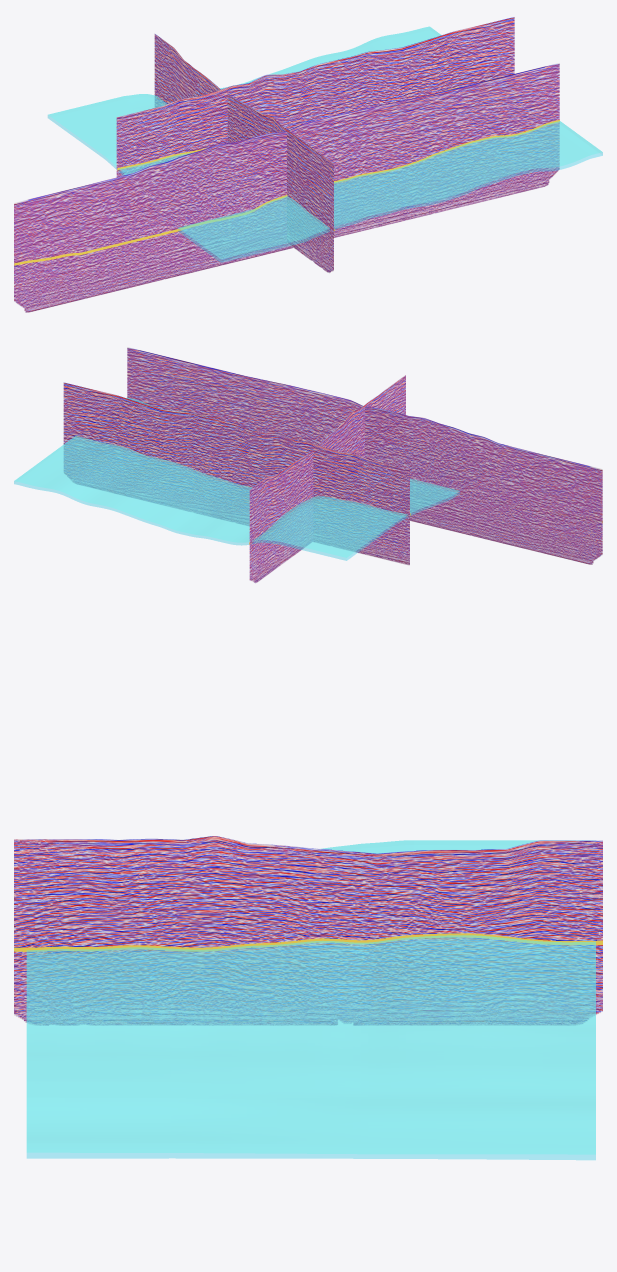
Rendered from jida_aquifer_seismic.glb.
3 renders of one model, top to bottom at view 1: azimuth 30°, elevation 25°; view 2: azimuth 150°, elevation 25°; view 3: azimuth 270°, elevation 25°, orthographic. The views are drawn at different scales.
Parts seen in each view (by area): view 1: SEISMIC_DZ5, AQUIFER_BODY_SIMULATED, SEISMIC_DZ1, AQUIFER_TOP_SIMULATED, SEISMIC_DZ2, HORIZON_DZ5; view 2: SEISMIC_DZ5, SEISMIC_DZ1, AQUIFER_BODY_SIMULATED, AQUIFER_TOP_SIMULATED, SEISMIC_DZ2; view 3: AQUIFER_BODY_SIMULATED, AQUIFER_TOP_SIMULATED, SEISMIC_DZ2, HORIZON_DZ2.
Part boxes in pixels (x1=…): SEISMIC_DZ5: x1=14, y1=63, x2=559, y2=312; AQUIFER_BODY_SIMULATED: x1=48, y1=26, x2=602, y2=262; SEISMIC_DZ1: x1=116, y1=17, x2=514, y2=177; AQUIFER_TOP_SIMULATED: x1=49, y1=27, x2=601, y2=258; SEISMIC_DZ2: x1=154, y1=34, x2=333, y2=273; HORIZON_DZ5: x1=14, y1=120, x2=559, y2=265; SEISMIC_DZ5: x1=127, y1=347, x2=602, y2=564; SEISMIC_DZ1: x1=63, y1=382, x2=409, y2=565; AQUIFER_BODY_SIMULATED: x1=14, y1=397, x2=459, y2=560; AQUIFER_TOP_SIMULATED: x1=15, y1=397, x2=458, y2=557; SEISMIC_DZ2: x1=249, y1=375, x2=405, y2=583; AQUIFER_BODY_SIMULATED: x1=27, y1=840, x2=595, y2=1159; AQUIFER_TOP_SIMULATED: x1=27, y1=840, x2=595, y2=1154; SEISMIC_DZ2: x1=14, y1=836, x2=602, y2=1025; HORIZON_DZ2: x1=14, y1=933, x2=602, y2=951.
Size of the model in its own units: 16410 by 3440 by 9105.
Materials: 6 (3 with a texture image).
